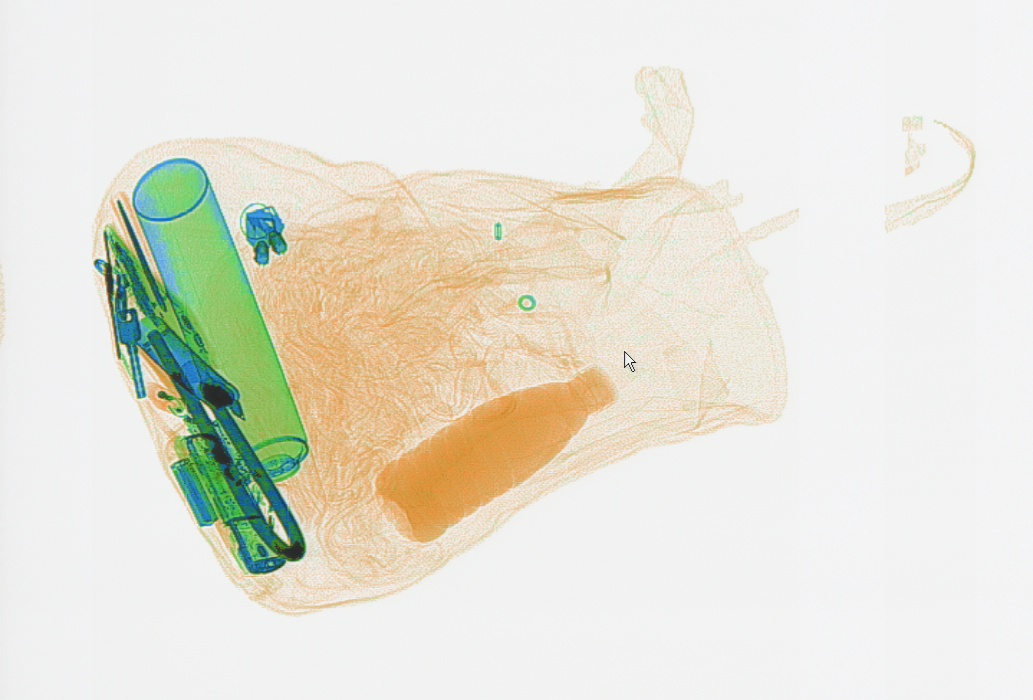lighter: (237, 468, 288, 568), (127, 377, 218, 430)
pressure: (130, 157, 312, 483)
